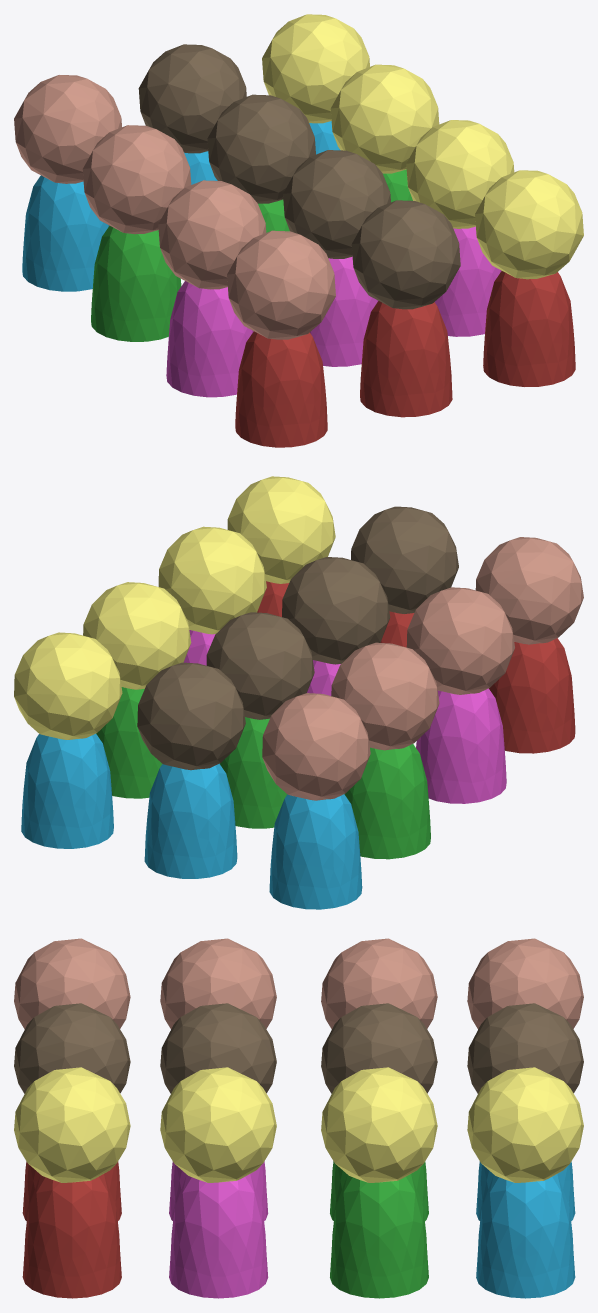
File: Characters (2).fbx
3 renders of one model, top to bottom at view 1: azimuth 30°, elevation 25°; view 2: azimuth 150°, elevation 25°; view 3: azimuth 270°, elevation 25°, orthographic. The views are drawn at different scales.
Parts seen in each view (by area): view 1: Char.011, Char.010, Char, Char.004, Char.007, Char.001, Char.008, Char.009, Char.005, Char.006, Char.002, Char.003; view 2: Char.001, Char.003, Char.002, Char.007, Char.011, Char.004, Char.005, Char.006, Char.008, Char.009, Char.010, Char; view 3: Char.003, Char, Char.009, Char.006, Char.002, Char.008, Char.010, Char.005, Char.007, Char.004, Char.001, Char.011.
Part boxes in pixels (x1,y1,x2,y2): Char.011: (227,230,335,447); Char.010: (351,200,460,417); Char: (475,170,583,386); Char.004: (82,125,191,341); Char.007: (158,180,266,397); Char.001: (14,75,121,291); Char.008: (283,150,390,366); Char.009: (406,120,514,336); Char.005: (207,94,315,232); Char.006: (330,64,439,202); Char.002: (138,44,246,184); Char.003: (262,14,369,154); Char.001: (262,693,370,909); Char.003: (14,632,122,848); Char.002: (137,662,245,878); Char.007: (406,587,514,803); Char.011: (475,537,583,753); Char.004: (331,642,439,859); Char.005: (206,612,314,828); Char.006: (83,582,191,798); Char.008: (282,557,390,695); Char.009: (158,526,266,665); Char.010: (351,506,458,647); Char: (227,476,335,616); Char.003: (467,1067,583,1298); Char: (14,1067,130,1298); Char.009: (160,1067,276,1298); Char.006: (321,1067,437,1298); Char.002: (467,1003,583,1220); Char.008: (160,1003,276,1220); Char.010: (14,1003,130,1220); Char.005: (321,1003,437,1220); Char.007: (160,938,276,1029); Char.004: (321,938,437,1029); Char.001: (467,938,583,1029); Char.011: (14,938,130,1029).
Size of the model in its own units: 8.5 by 4.55 by 11.49.
1 material, 1 textured.
